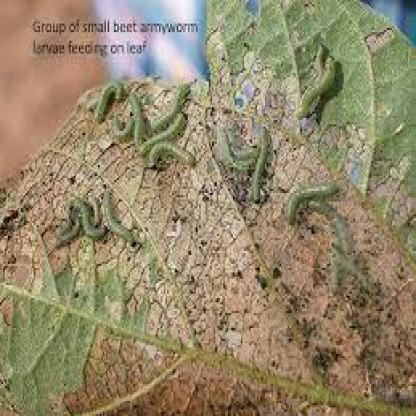armyworm: (297, 43, 338, 119), (282, 178, 339, 230), (302, 195, 352, 247), (150, 84, 192, 134), (102, 193, 138, 250), (139, 117, 191, 156), (71, 192, 107, 243), (252, 119, 271, 209), (145, 139, 197, 171), (92, 82, 124, 119), (127, 92, 145, 154), (54, 212, 79, 252), (107, 111, 134, 141)
